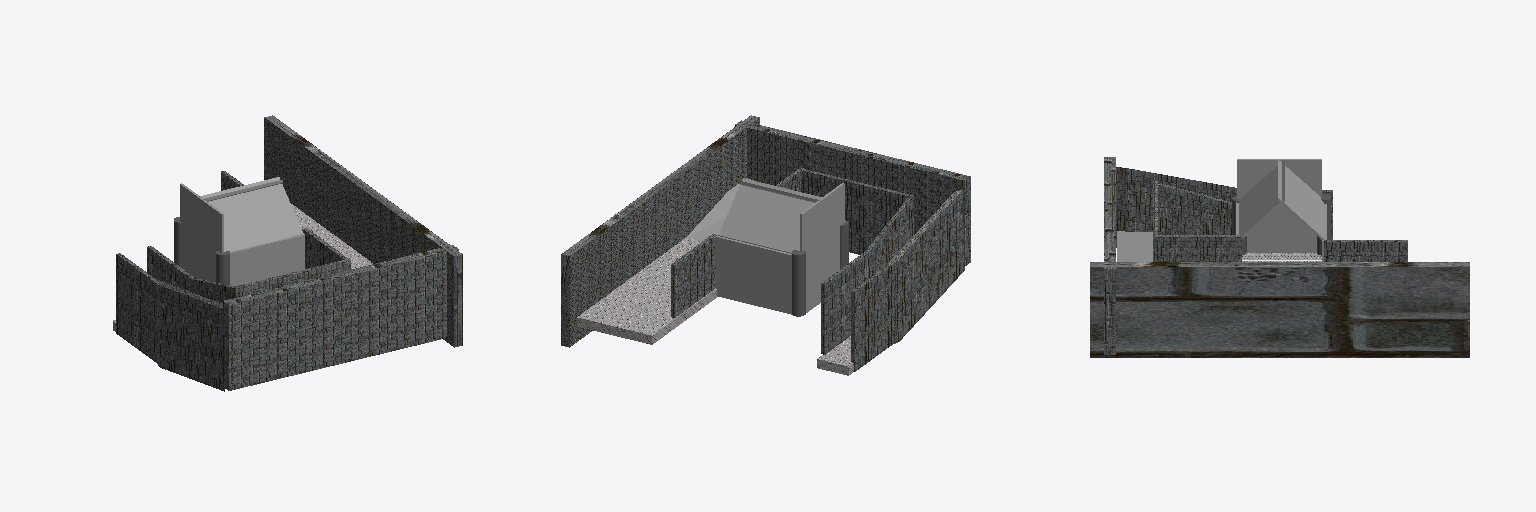
3 renders of one model, left to right at view 1: azimuth 30°, elevation 25°; view 2: azimuth 150°, elevation 25°; view 3: azimuth 270°, elevation 25°, orthographic.
Visible parts, largest first — view 1: Cube.001_Cube.003, Cube.016_Cube.009, Cube.007_Cube.027, Cube_Cube.022, Cube.023_Cube.033, Wall_Cube.005, Cube.004_Cube.007, Cube.006_Cube.025, Cube.022_Cube.032, Cube.005_Cube.002, Cube.009_Cube.012, Cube.020_Cube.030; view 2: Cube.016_Cube.009, Cube.001_Cube.003, Cube.007_Cube.027, Cube.005_Cube.002, Cube.003_Cube.006, Cube.002_Cube.024, Cube.023_Cube.033, Cube.006_Cube.025, Wall_Cube.005, Cube.022_Cube.032, Cube.010_Cube.013, Cube.020_Cube.030 (+3 smaller); view 3: Cube.016_Cube.009, Wall_Cube.005, Cube.007_Cube.027, Cube.020_Cube.030, Cube.009_Cube.012, Cube.001_Cube.003, Cube.010_Cube.013, Cube.002_Cube.024, Cube_Cube.022, Cube.012_Cube.015, Floor_Cube.001.
Boxes of the visible parts, box(x1,y1,x2,y2) form: Cube.001_Cube.003: box(223, 245, 458, 390); Cube.016_Cube.009: box(264, 115, 462, 347); Cube.007_Cube.027: box(157, 280, 224, 391); Cube_Cube.022: box(199, 177, 303, 251); Cube.023_Cube.033: box(116, 253, 160, 364); Wall_Cube.005: box(180, 183, 223, 281); Cube.004_Cube.007: box(230, 234, 304, 285); Cube.006_Cube.025: box(234, 260, 346, 297); Cube.022_Cube.032: box(147, 246, 194, 291); Cube.005_Cube.002: box(291, 204, 372, 268); Cube.009_Cube.012: box(302, 228, 350, 269); Cube.020_Cube.030: box(191, 278, 234, 303); Cube.016_Cube.009: box(561, 115, 759, 347); Cube.001_Cube.003: box(735, 120, 970, 266); Cube.007_Cube.027: box(887, 189, 964, 343); Cube.005_Cube.002: box(577, 238, 716, 344); Cube.003_Cube.006: box(716, 235, 791, 314); Cube.002_Cube.024: box(718, 178, 822, 253); Cube.023_Cube.033: box(851, 260, 899, 371); Cube.006_Cube.025: box(798, 168, 913, 254); Wall_Cube.005: box(800, 183, 844, 312); Cube.022_Cube.032: box(821, 251, 869, 354); Cube.010_Cube.013: box(671, 234, 716, 317); Cube.020_Cube.030: box(866, 198, 913, 277); Cube.016_Cube.009: box(1090, 262, 1469, 357); Wall_Cube.005: box(1237, 159, 1321, 252); Cube.007_Cube.027: box(1116, 167, 1236, 247); Cube.020_Cube.030: box(1158, 183, 1231, 234); Cube.009_Cube.012: box(1153, 235, 1241, 261); Cube.001_Cube.003: box(1104, 157, 1115, 354); Cube.010_Cube.013: box(1324, 240, 1407, 261); Cube.002_Cube.024: box(1278, 159, 1323, 239); Cube_Cube.022: box(1239, 160, 1284, 238); Cube.012_Cube.015: box(1117, 231, 1152, 261); Floor_Cube.001: box(1242, 253, 1321, 261).
Size of the model in its own units: 5.76 by 3.4 by 8.25.
Materials: 10 (2 with a texture image).